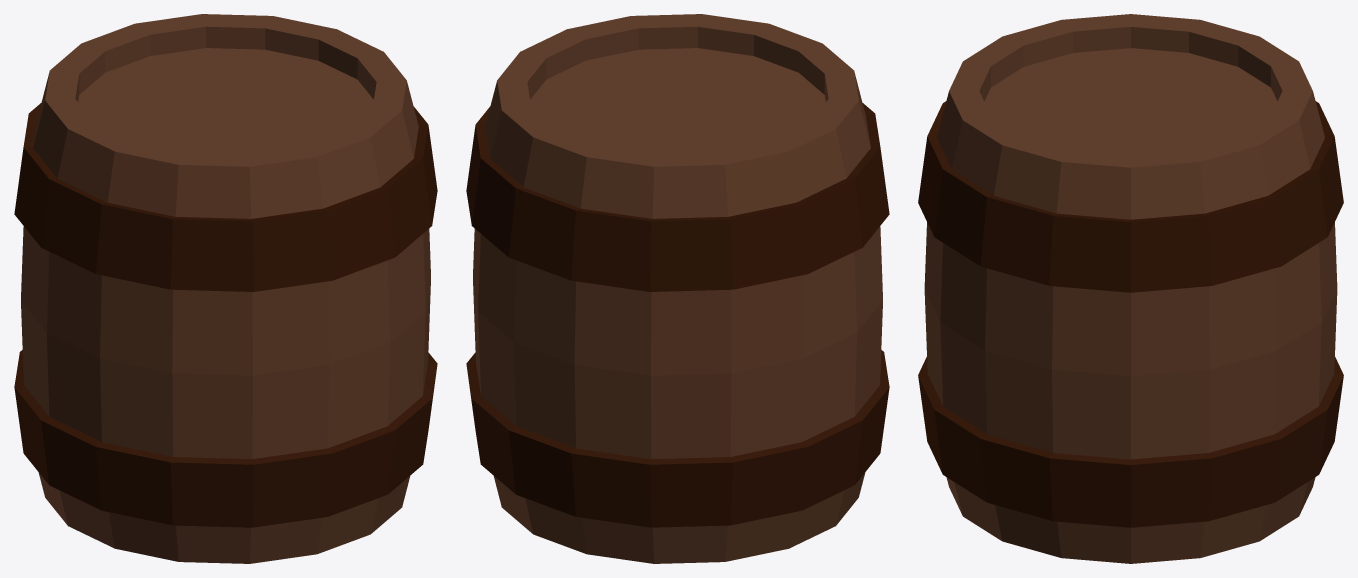
Rendered from barrel.fbx.
3 views of the same model, side by side, from view 1: azimuth 30°, elevation 25°; view 2: azimuth 150°, elevation 25°; view 3: azimuth 270°, elevation 25° (orthographic).
Parts seen in each view (by area): view 1: Barrel; view 2: Barrel; view 3: Barrel.
Boxes of the visible parts, x1=… form: Barrel: x1=14, y1=14, x2=437, y2=563; Barrel: x1=466, y1=14, x2=889, y2=563; Barrel: x1=918, y1=14, x2=1343, y2=563.
Size of the model in its own units: 198 by 203 by 198.
